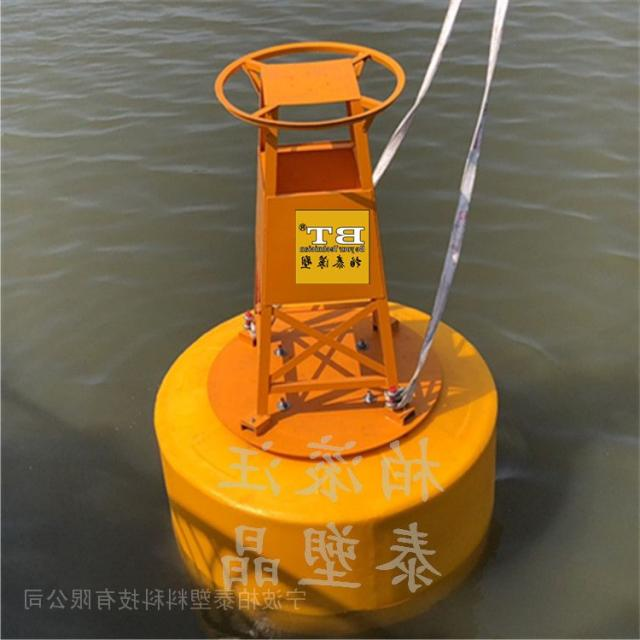buoy: (150, 36, 517, 621)
